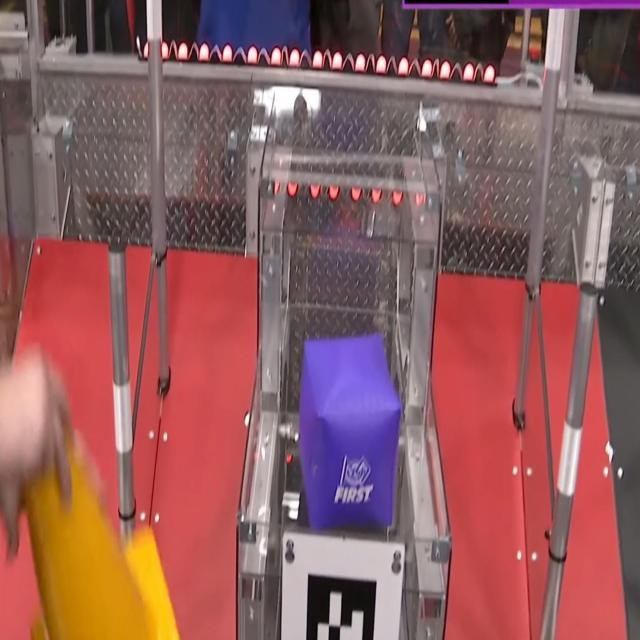frc_cone: (22, 416, 178, 640)
frc_cube: (301, 332, 404, 533)
